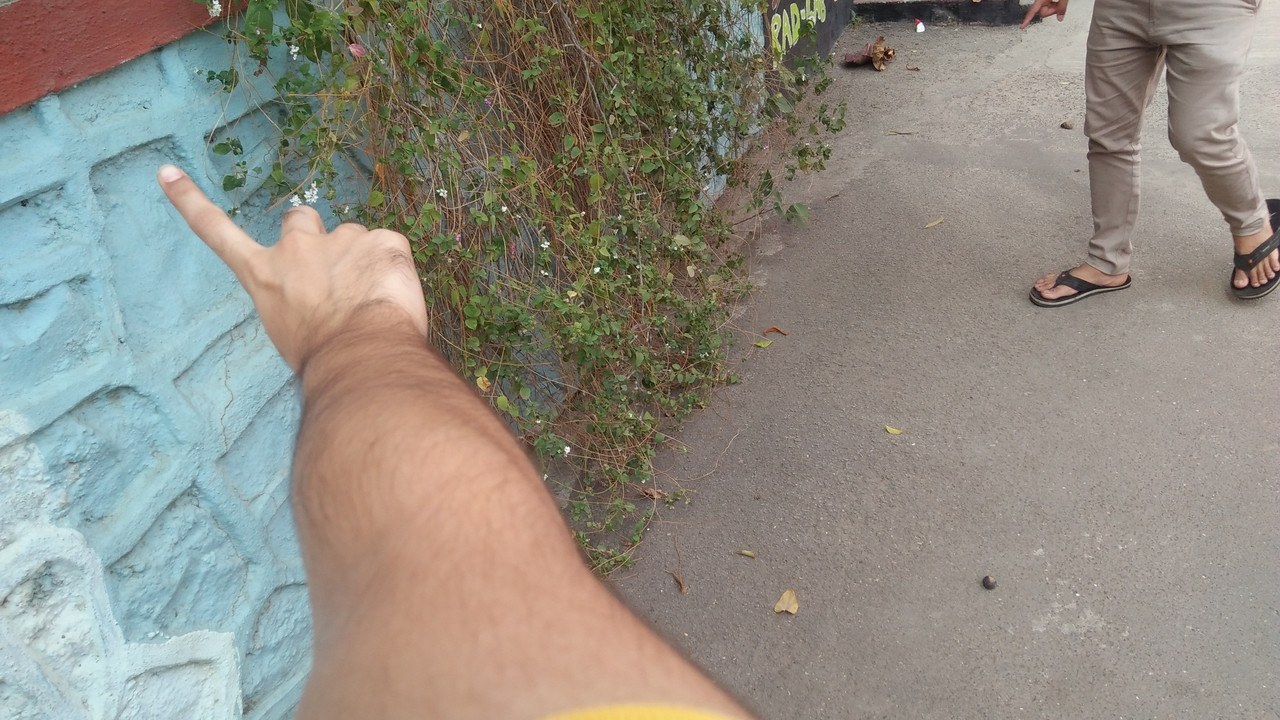fingertip: (142, 152, 202, 200)
